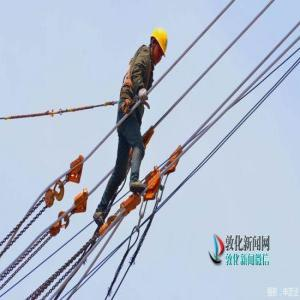yellow: (148, 25, 170, 68)
